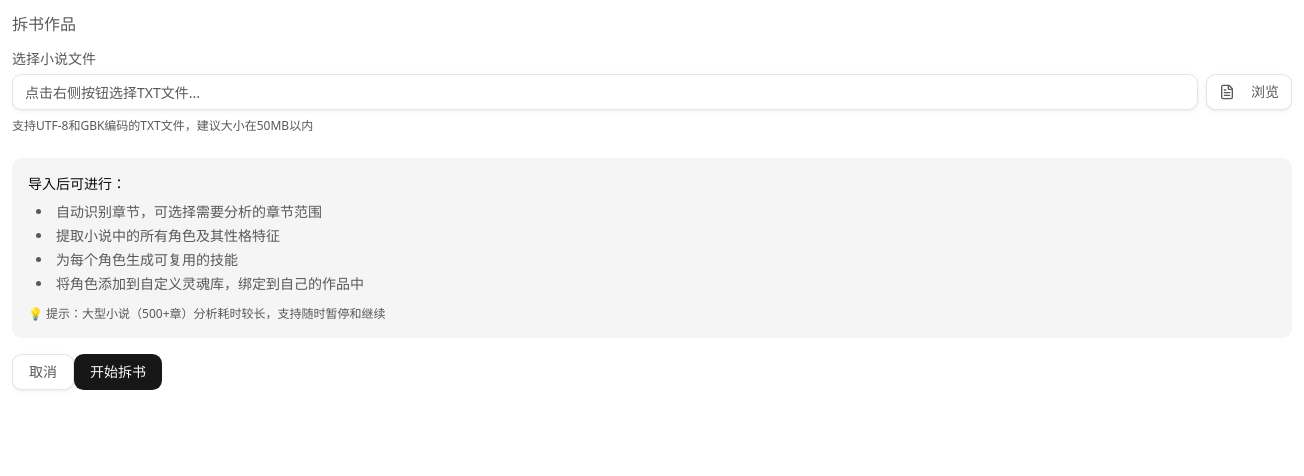
Test: BookAnalysisInputDialog › shows an error when submitting with an empty path
The width and height of the screenshot is (1304, 476).
Click the button "开始拆书".
click(118, 372)  # box [74,354,162,390]
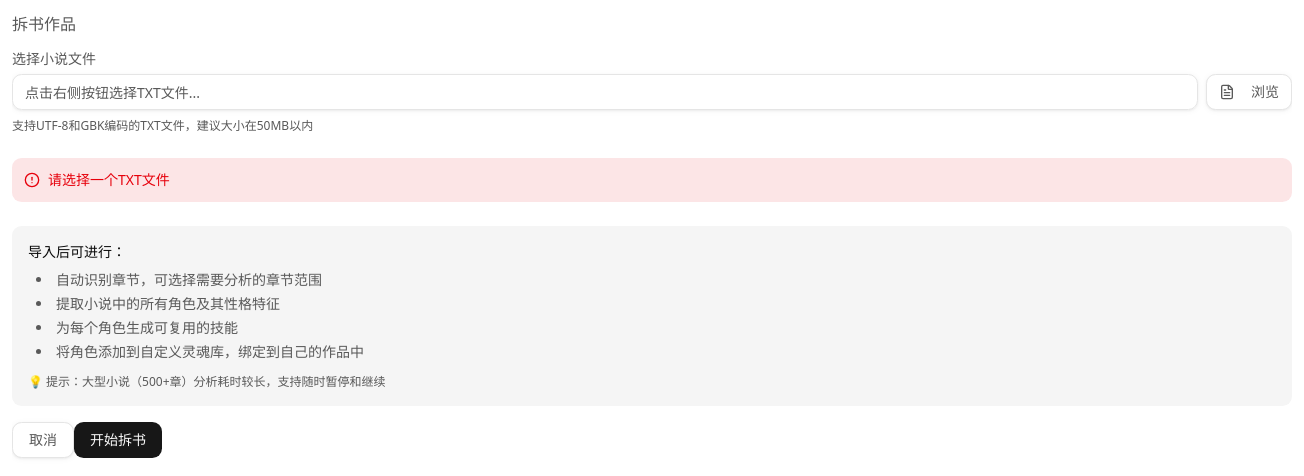
Now the text "请选择一个TXT文件" is shown, box [48,170,170,190]
